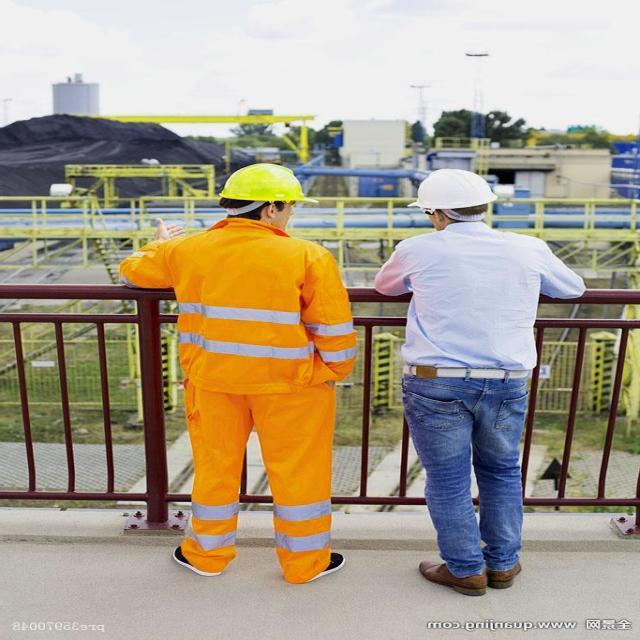head_helmet: (406, 168, 501, 208), (218, 161, 310, 201)
person: (166, 156, 349, 582), (400, 169, 544, 597)
shoes: (414, 556, 488, 596), (160, 542, 230, 579), (278, 550, 354, 582), (479, 548, 524, 590)
vest: (160, 236, 329, 376)
